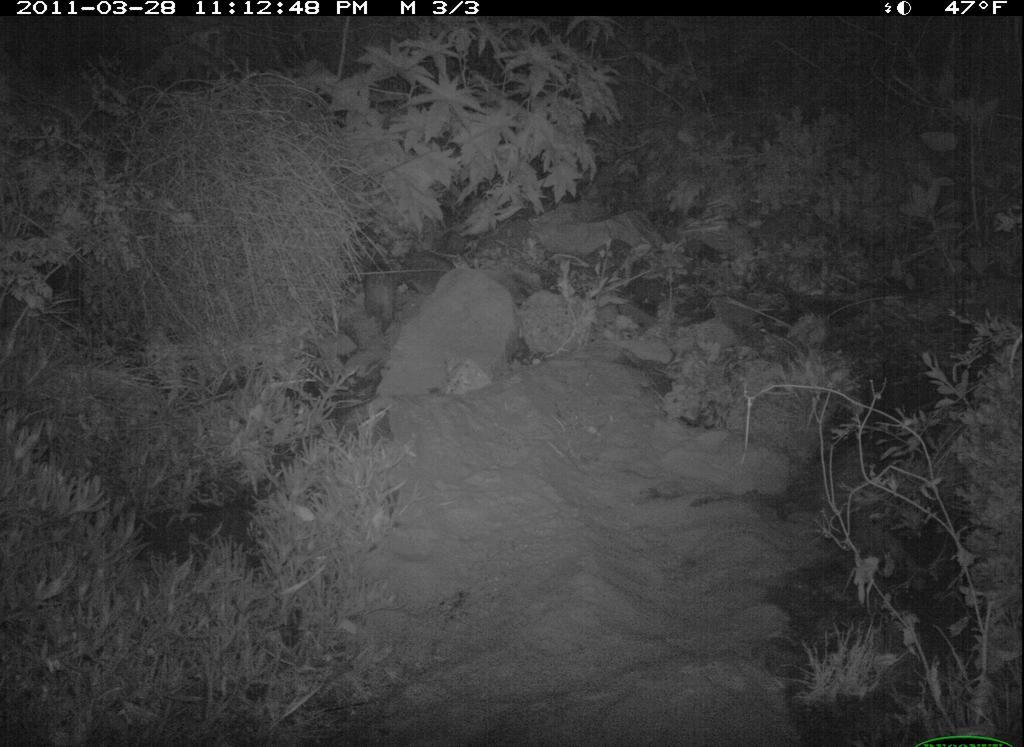opossum: (364, 246, 406, 339)
